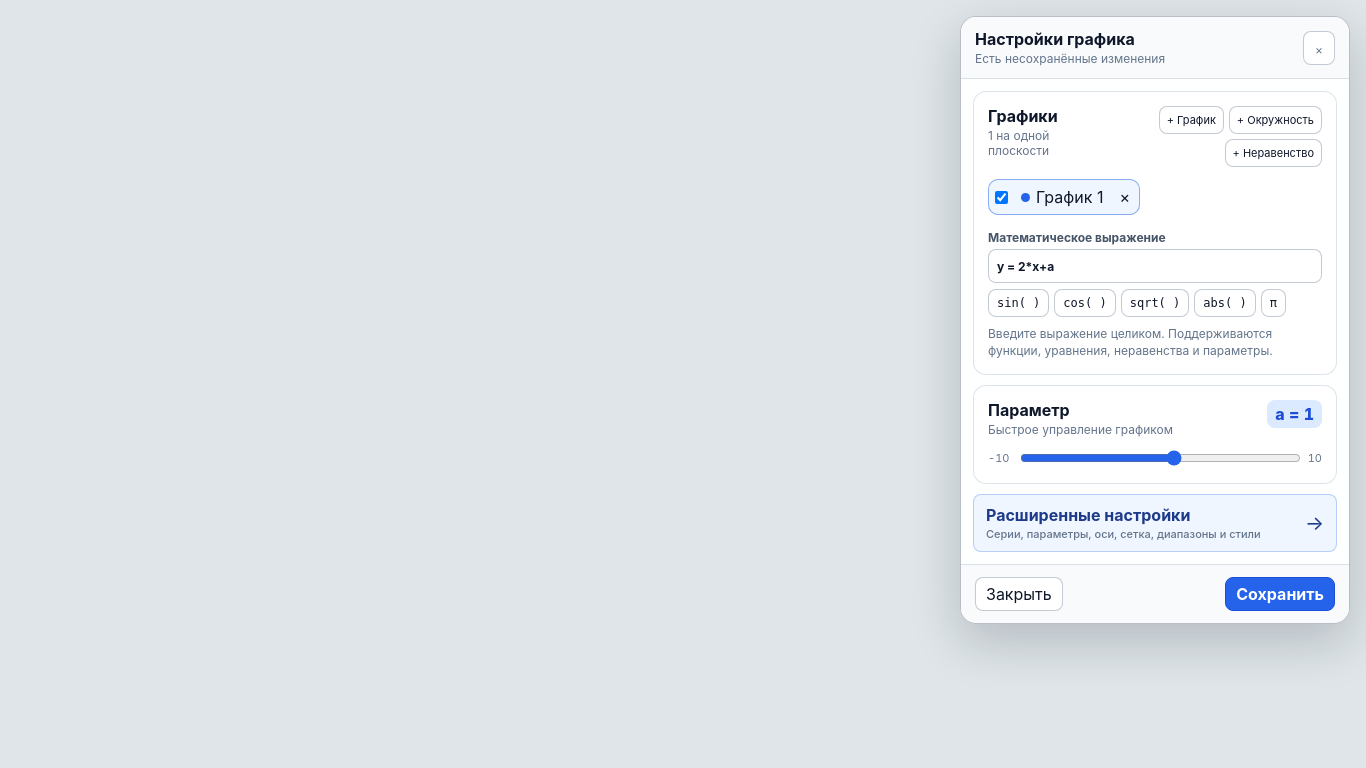
Test: CoordinatePlotEditorPanel › shows a compact formula and primary parameter before advanced settings
This screenshot has width=1366, height=768.
Expected: the field named "Математическое выражение графика" holds "y = 2*x+a", [988,249,1322,283]
Expected: the slider named "Ползунок параметра a" is shown, [1020,449,1301,467]
Click the button "Расширенные настройки" at (1155, 523), box [973,494,1337,552]
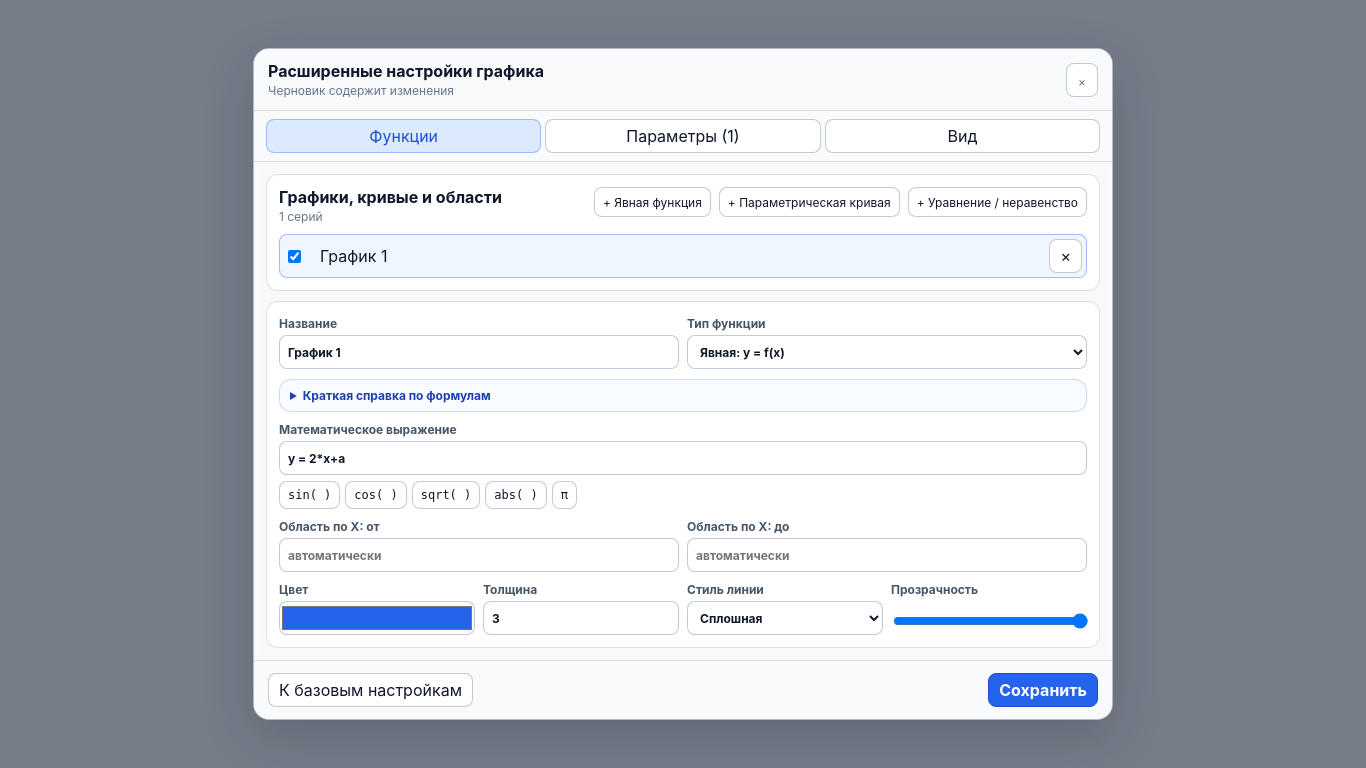
Expected: the dialog "Расширенные настройки графика" is shown, [253,48,1113,720]
Click the button "К базовым настройкам" at (370, 690), box [268,673,473,707]
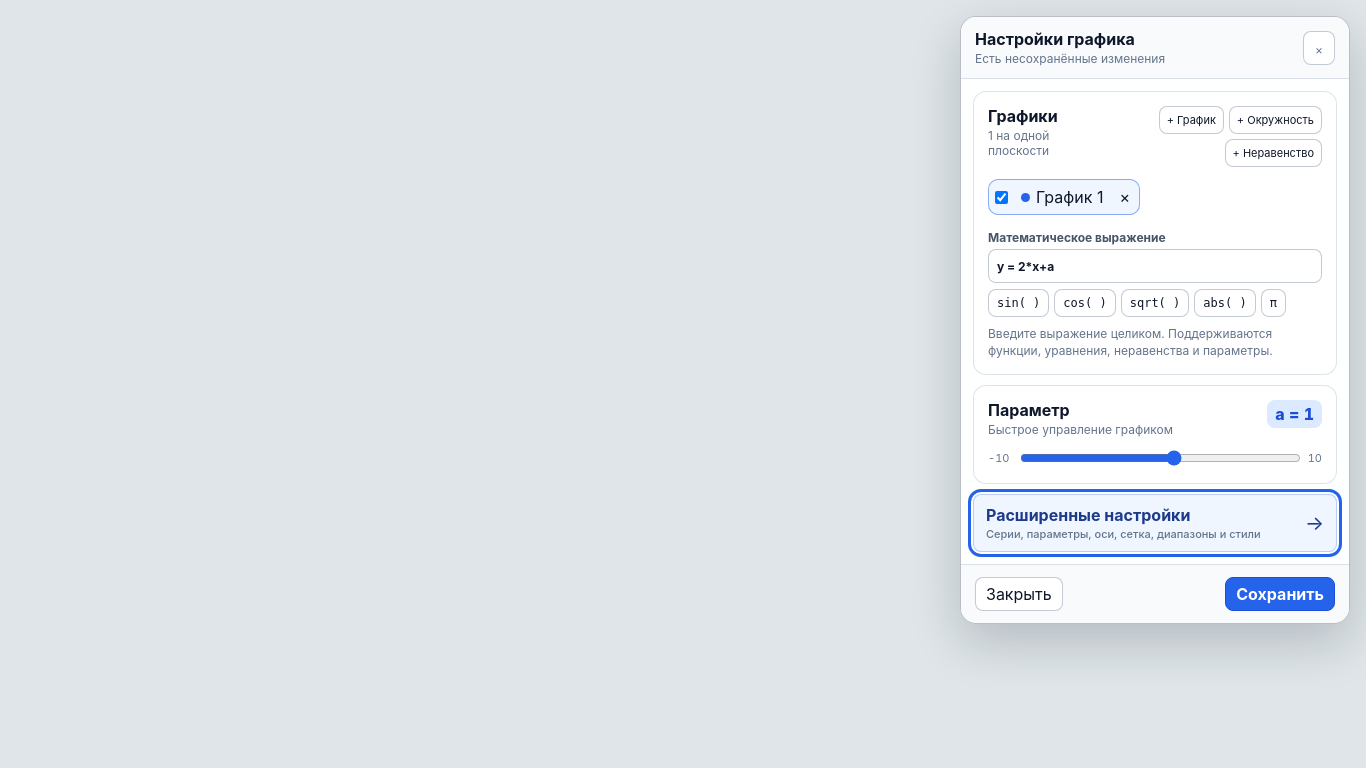
Expected: the text "Расширенные настройки графика" is gone
Expected: the field named "Математическое выражение графика" holds "y = 2*x+a", [988,249,1322,283]
